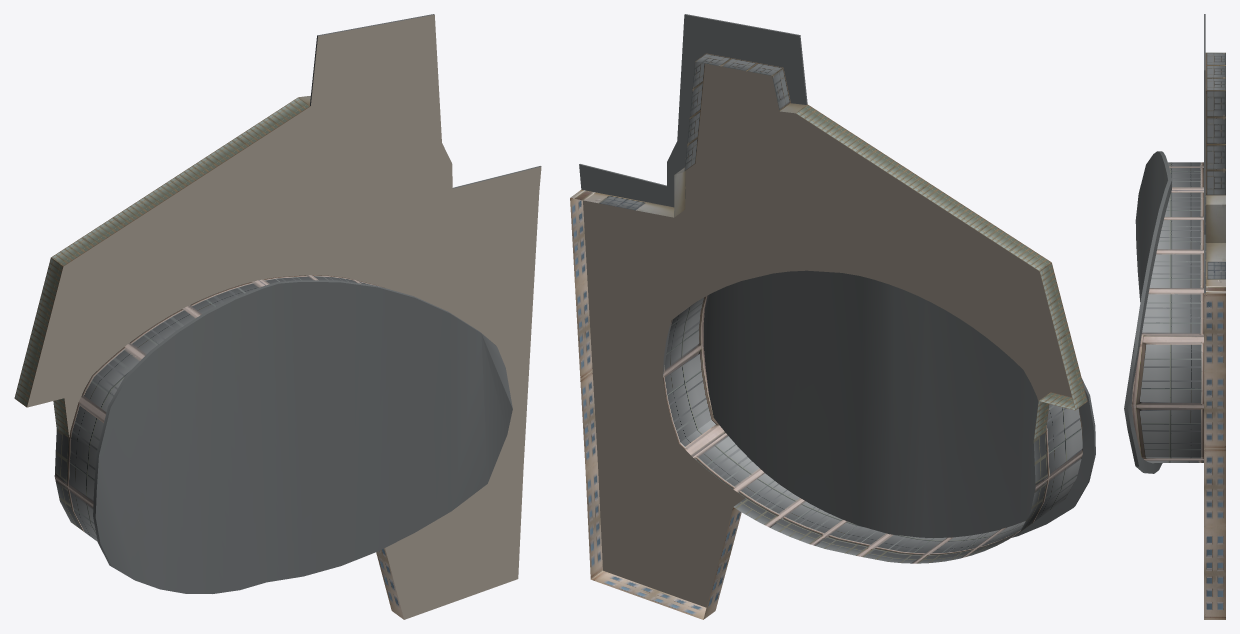
Rendered from DEU_605_KARLSRUHE_SCHWARZ_S.OBJ.
3 renders of one model, left to right at view 1: azimuth 30°, elevation 25°; view 2: azimuth 150°, elevation 25°; view 3: azimuth 270°, elevation 25°, orthographic. The views are drawn at different scales.
Parts seen in each view (by area): view 1: DEU_605_KARLSRUHE_SCHWARZ_S1_DEU_605_KARLSRUHE_SCHWARZ; view 2: DEU_605_KARLSRUHE_SCHWARZ_S1_DEU_605_KARLSRUHE_SCHWARZ; view 3: DEU_605_KARLSRUHE_SCHWARZ_S1_DEU_605_KARLSRUHE_SCHWARZ.
Boxes of the visible parts, box(x1,y1,x2,y2) form: DEU_605_KARLSRUHE_SCHWARZ_S1_DEU_605_KARLSRUHE_SCHWARZ: box(14, 14, 541, 619); DEU_605_KARLSRUHE_SCHWARZ_S1_DEU_605_KARLSRUHE_SCHWARZ: box(570, 14, 1095, 619); DEU_605_KARLSRUHE_SCHWARZ_S1_DEU_605_KARLSRUHE_SCHWARZ: box(1124, 14, 1225, 619).
Bounding box in the file's own units: 96.17 × 108 × 18.76.
1 material, 1 textured.
